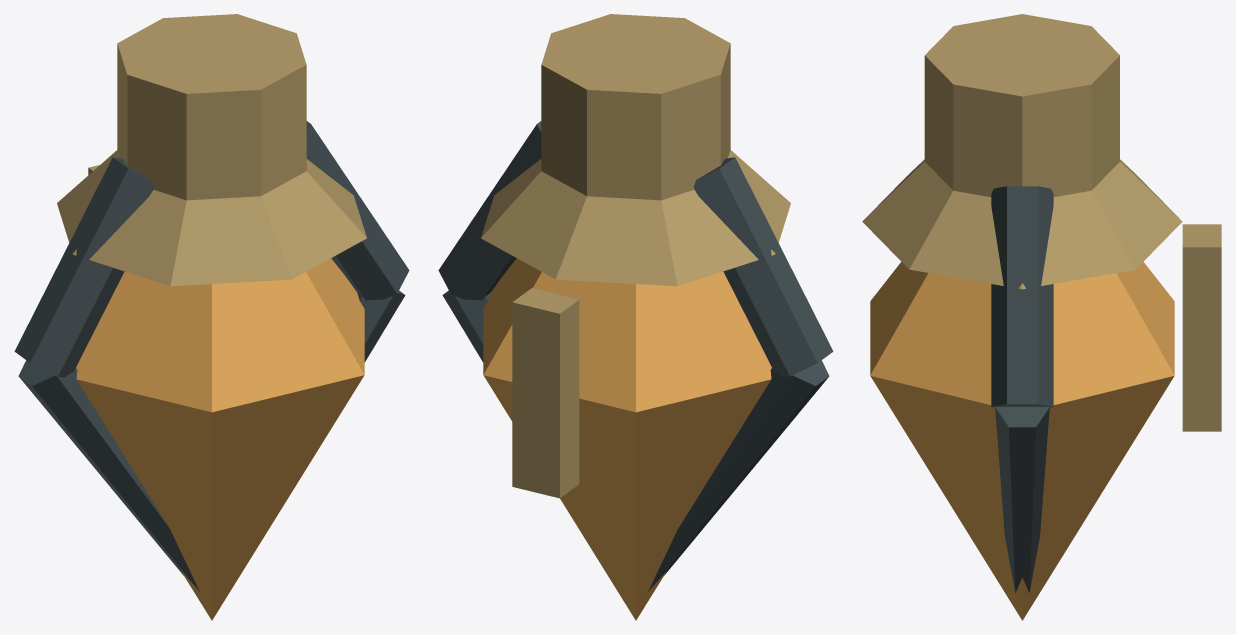
File: Socket_733.fbx
The picture shows the model from 3 angles, left to right: view 1: azimuth 30°, elevation 25°; view 2: azimuth 150°, elevation 25°; view 3: azimuth 270°, elevation 25°; orthographic projection.
Visible parts, largest first — view 1: Socket_733; view 2: Socket_733; view 3: Socket_733.
Boxes of the visible parts, x1,y1,x2,y2 form: Socket_733: (14,14,409,620); Socket_733: (438,14,833,620); Socket_733: (862,14,1221,620).
Size of the model in its own units: 0.1119 by 0.1597 by 0.092.
